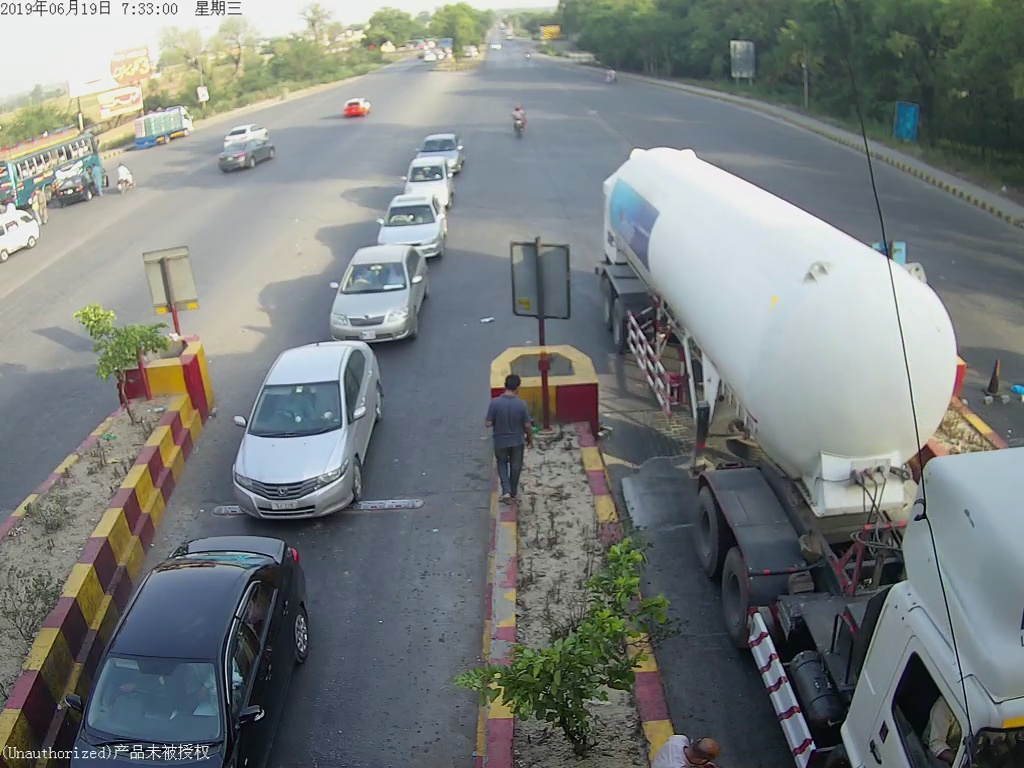Cat-1: (227, 346, 380, 522), (321, 252, 437, 347), (370, 193, 466, 247), (392, 163, 465, 196)
Cat-5: (597, 144, 1022, 763)
